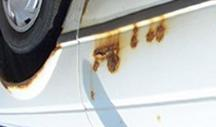rust: (91, 34, 122, 75), (130, 25, 175, 45), (78, 1, 98, 22), (87, 89, 99, 100)
